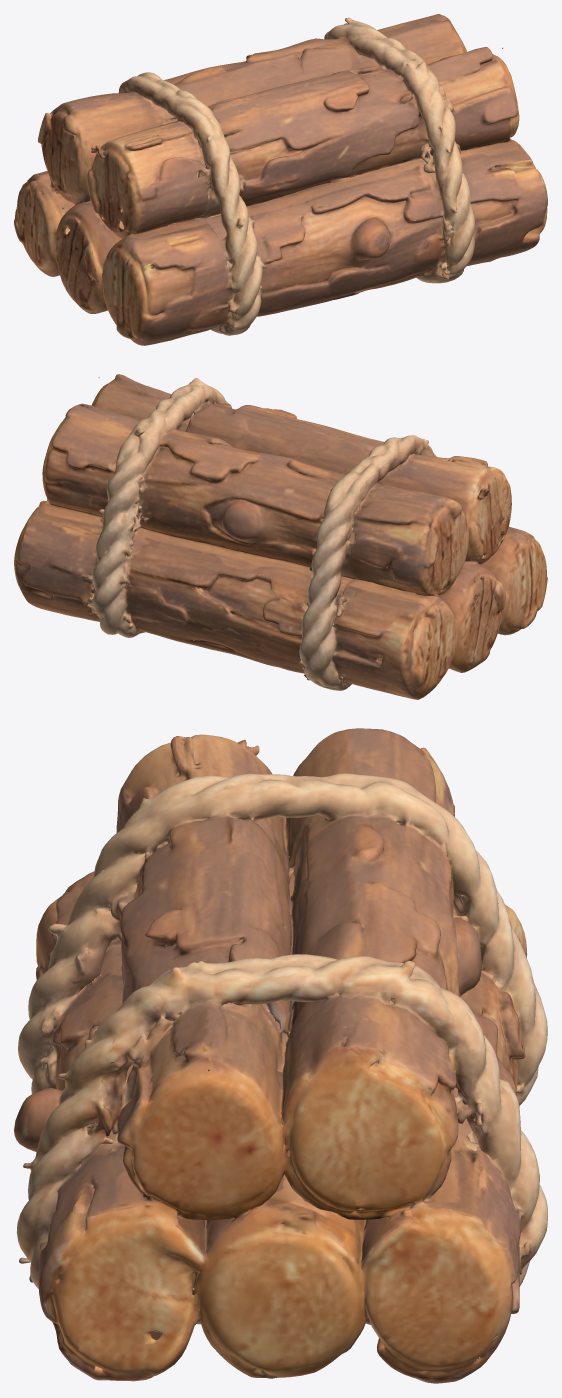
File: A2_柴火捆_v2.glb
3 renders of one model, top to bottom at view 1: azimuth 30°, elevation 25°; view 2: azimuth 150°, elevation 25°; view 3: azimuth 270°, elevation 25°, orthographic. The views are drawn at different scales.
Visible parts, largest first — view 1: A2_body; view 2: A2_body; view 3: A2_body.
Boxes of the visible parts, left/top/right/bottom form: A2_body: left=14, top=14, right=547, bottom=345; A2_body: left=14, top=374, right=547, bottom=699; A2_body: left=14, top=728, right=547, bottom=1383.
Size of the model in its own units: 0.6252 by 0.3 by 0.3883.
1 material, 1 textured.
